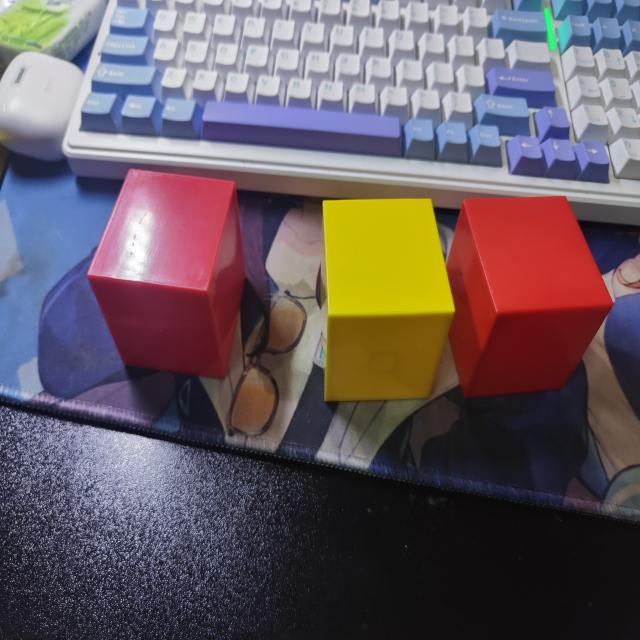red: (445, 196, 615, 405), (87, 169, 245, 384)
yellow: (321, 198, 454, 406)
